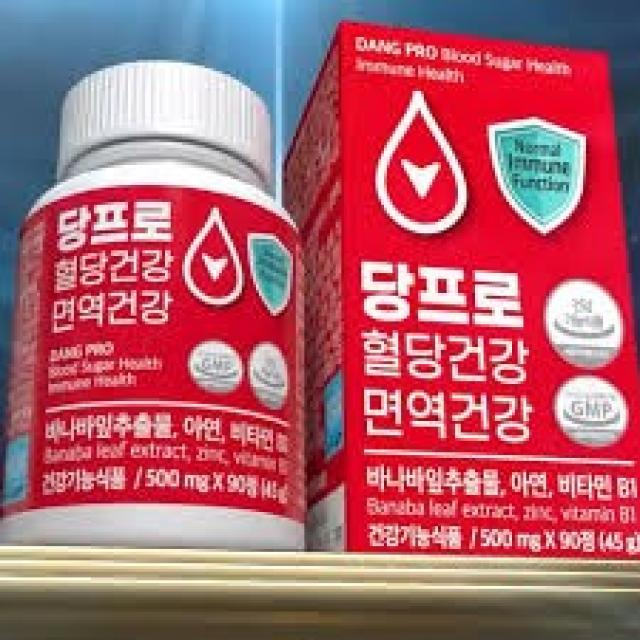GMP: (553, 374, 630, 448), (187, 339, 243, 396)
HEALTHY: (542, 275, 625, 371), (250, 339, 292, 410)
